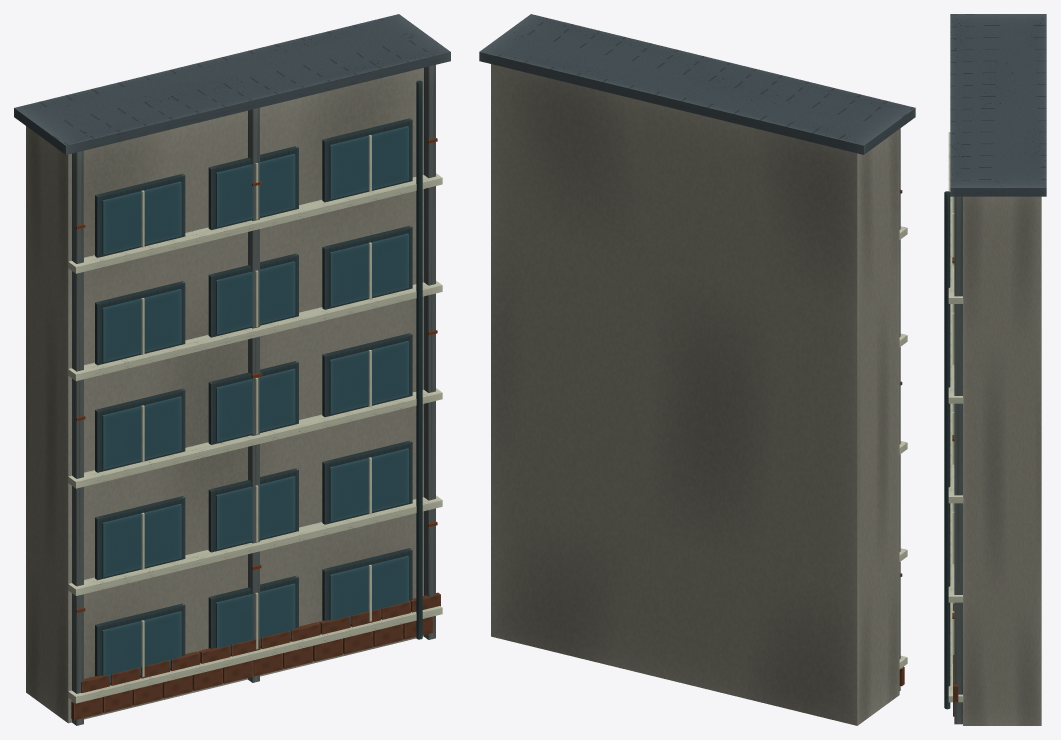
The model's file is facade_module.fbx.
The picture shows the model from 3 angles, left to right: view 1: azimuth 30°, elevation 25°; view 2: azimuth 150°, elevation 25°; view 3: azimuth 270°, elevation 25°; orthographic projection. The views are drawn at different scales.
Parts seen in each view (by area): view 1: facade_module__masonry, facade_module__roof_lip, facade_module__vertical_pier, facade_module__vertical_pier.002, facade_module__horizontal_sill.003, facade_module__horizontal_sill.002, facade_module__horizontal_sill.004, facade_module__horizontal_sill.001, facade_module__window_glazing.003, facade_module__window_glazing.006, facade_module__window_glazing.012, facade_module__window_glazing.009 (+29 smaller); view 2: facade_module__masonry, facade_module__roof_lip, facade_module__vertical_pier; view 3: facade_module__masonry, facade_module__roof_lip, facade_module__vertical_pier.002, facade_module__rainpipe, facade_module__horizontal_sill.004, facade_module__horizontal_sill.002, facade_module__horizontal_sill.003, facade_module__horizontal_sill.001, facade_module__horizontal_sill.
Boxes of the visible parts, <box> form: facade_module__masonry: <box>26,68,423,723</box>; facade_module__roof_lip: <box>14,14,450,154</box>; facade_module__vertical_pier: <box>72,150,83,725</box>; facade_module__vertical_pier.002: <box>424,65,435,639</box>; facade_module__horizontal_sill.003: <box>68,280,442,381</box>; facade_module__horizontal_sill.002: <box>68,388,442,488</box>; facade_module__horizontal_sill.004: <box>68,173,442,273</box>; facade_module__horizontal_sill.001: <box>68,495,442,595</box>; facade_module__window_glazing.003: <box>102,504,181,577</box>; facade_module__window_glazing.006: <box>102,396,181,469</box>; facade_module__window_glazing.012: <box>102,181,181,254</box>; facade_module__window_glazing.009: <box>102,289,181,362</box>; facade_module__masonry: <box>491,64,899,725</box>; facade_module__roof_lip: <box>479,14,915,154</box>; facade_module__vertical_pier: <box>899,128,900,690</box>; facade_module__masonry: <box>963,196,1041,725</box>; facade_module__roof_lip: <box>950,14,1046,196</box>; facade_module__vertical_pier.002: <box>954,196,962,724</box>; facade_module__rainpipe: <box>944,191,950,709</box>; facade_module__horizontal_sill.004: <box>948,132,963,303</box>; facade_module__horizontal_sill.002: <box>948,403,963,503</box>; facade_module__horizontal_sill.003: <box>948,304,963,403</box>; facade_module__horizontal_sill.001: <box>948,503,962,602</box>; facade_module__horizontal_sill: <box>948,602,963,702</box>.
Bounding box in the file's own units: 1050 × 1524 × 260.
Materials: 8 (8 with a texture image).
